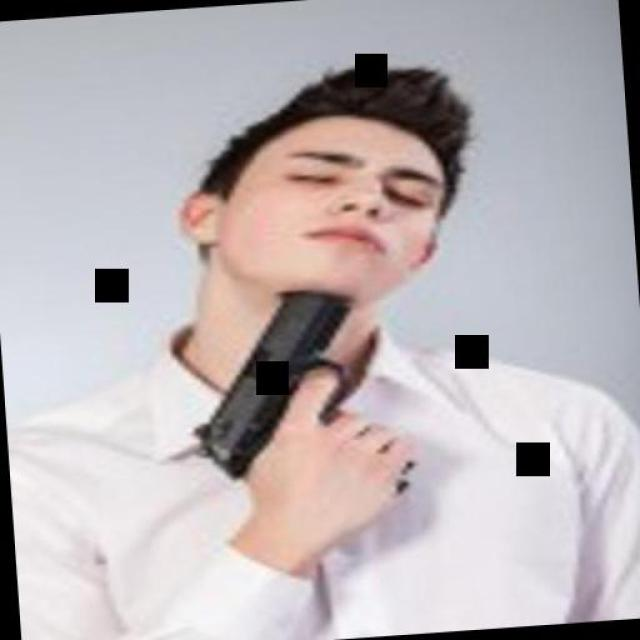gun: (176, 274, 424, 518)
